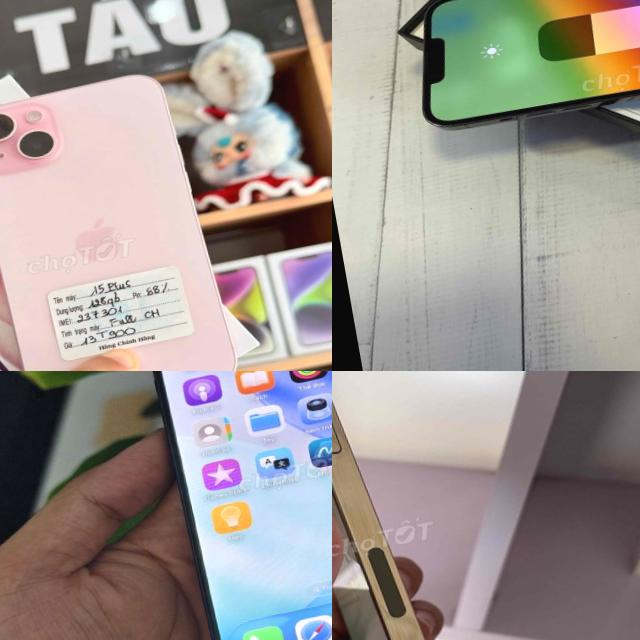gen_12_13: (332, 371, 493, 640), (397, 0, 640, 137)
gen_15: (0, 60, 260, 371), (132, 371, 332, 640)
